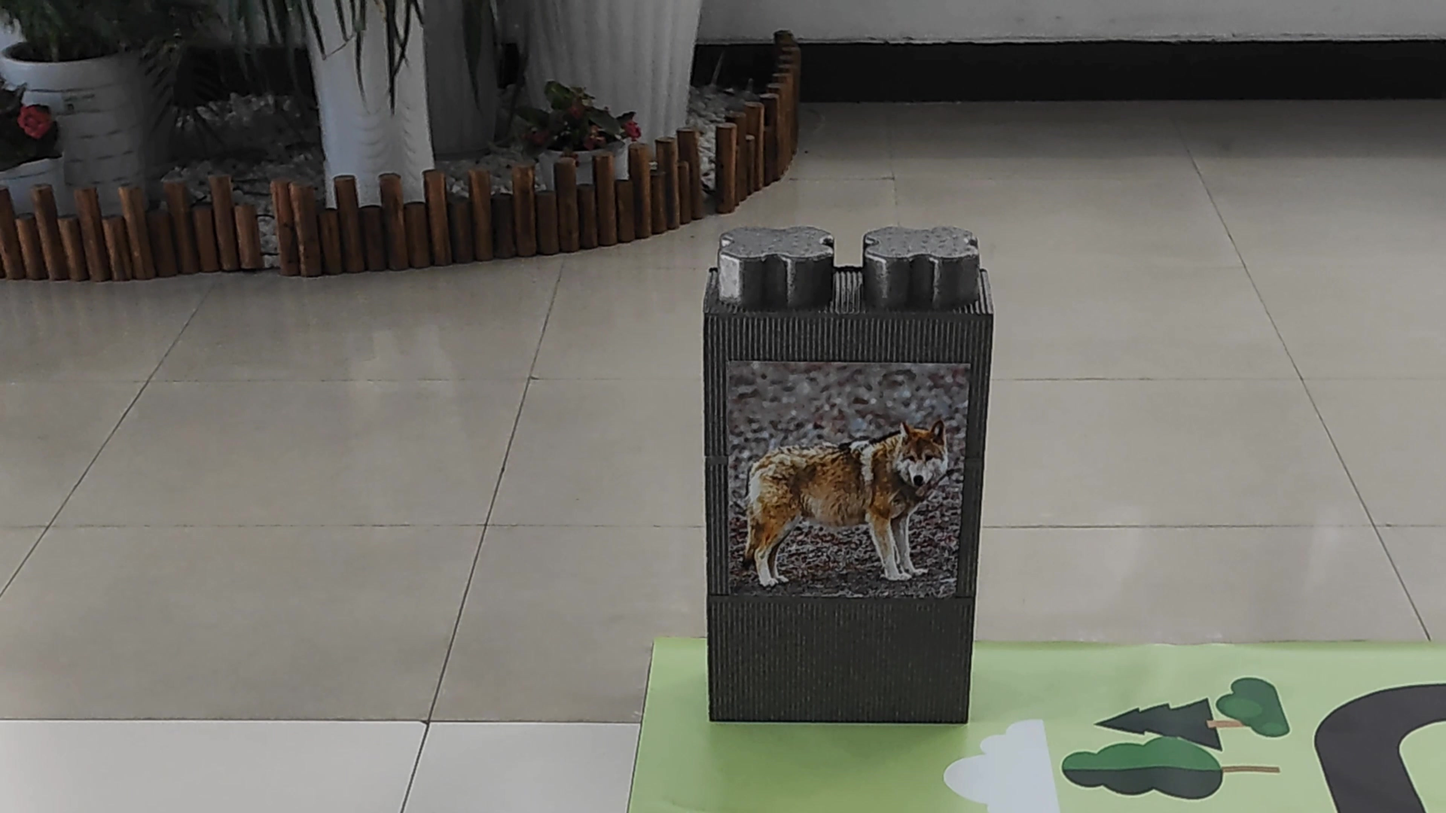wolf: (732, 364, 953, 613)
